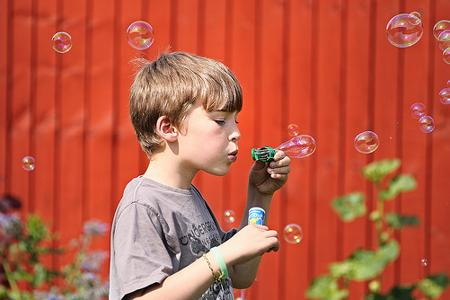person: (108, 50, 292, 300)
